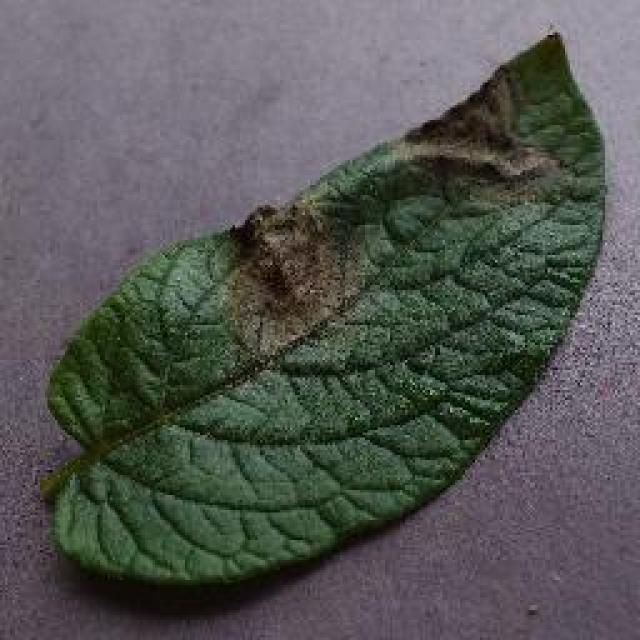late_blight: (35, 25, 610, 590)
